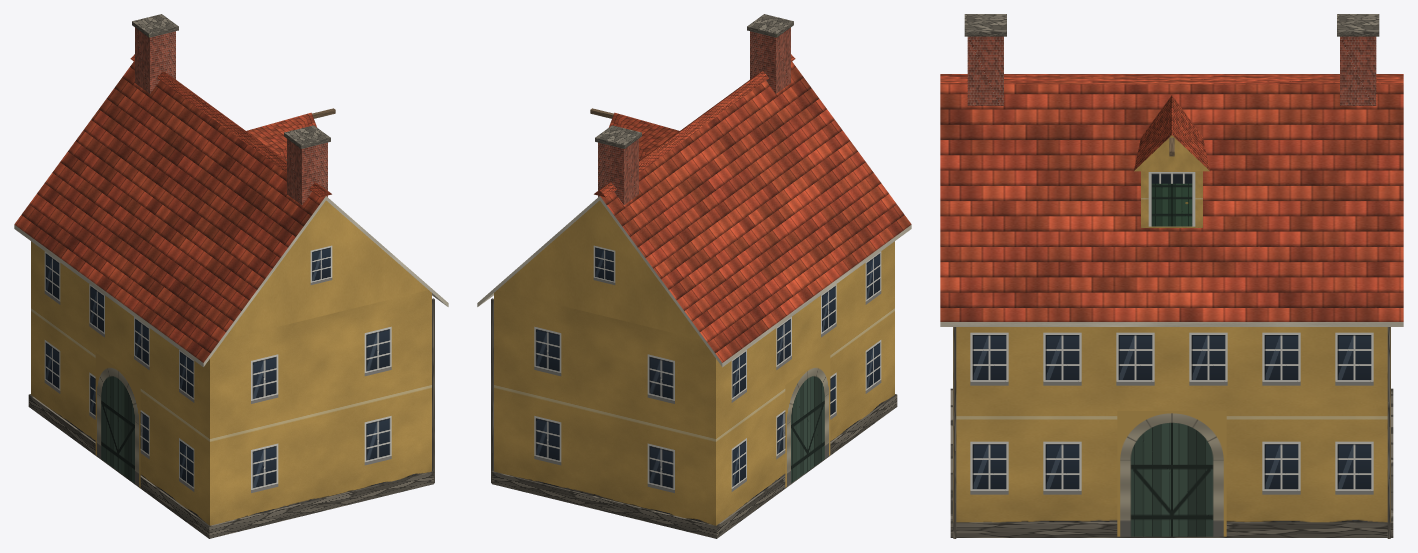
Rendered from SM_MerchantHouse.fbx.
3 views of the same model, side by side, from view 1: azimuth 30°, elevation 25°; view 2: azimuth 150°, elevation 25°; view 3: azimuth 270°, elevation 25° (orthographic). The views are drawn at different scales.
Visible parts, largest first — view 1: SM_MerchantHouse; view 2: SM_MerchantHouse; view 3: SM_MerchantHouse.
Boxes of the visible parts, bbox=[...] form: SM_MerchantHouse: bbox=[14, 14, 448, 538]; SM_MerchantHouse: bbox=[477, 14, 911, 538]; SM_MerchantHouse: bbox=[940, 14, 1403, 538].
Size of the model in its own units: 950 by 1270 by 1354.
Materials: 1 (1 with a texture image).
